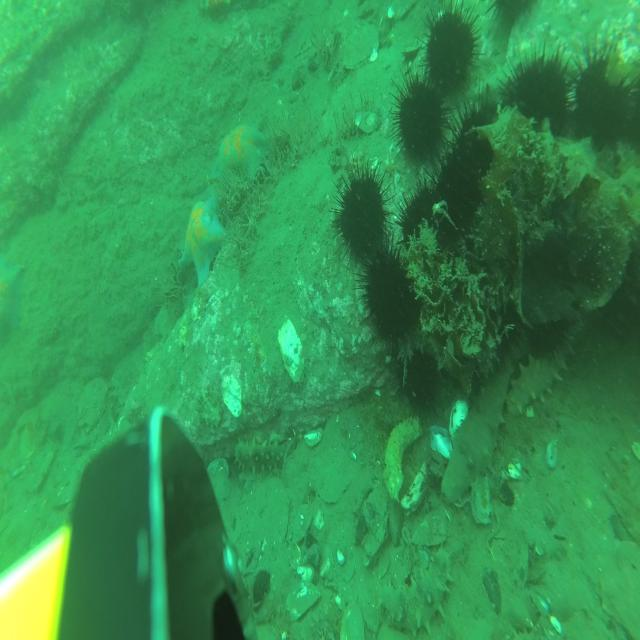echinus: (501, 44, 577, 151), (570, 42, 638, 155), (418, 0, 484, 106), (333, 153, 396, 264), (392, 64, 452, 178), (361, 243, 421, 351), (428, 145, 486, 251), (453, 88, 506, 189), (474, 283, 524, 371), (395, 335, 443, 423), (400, 178, 444, 266), (527, 278, 573, 361), (601, 264, 640, 352), (487, 0, 540, 30), (626, 63, 640, 156)
holothurian: (441, 334, 522, 507), (379, 542, 455, 640), (505, 319, 579, 417), (474, 50, 584, 103), (234, 437, 296, 477)
scallop: (602, 538, 640, 640), (74, 378, 108, 427), (345, 23, 379, 72), (203, 457, 232, 502)
starfish: (179, 194, 226, 289), (214, 124, 268, 184), (0, 259, 26, 348)
